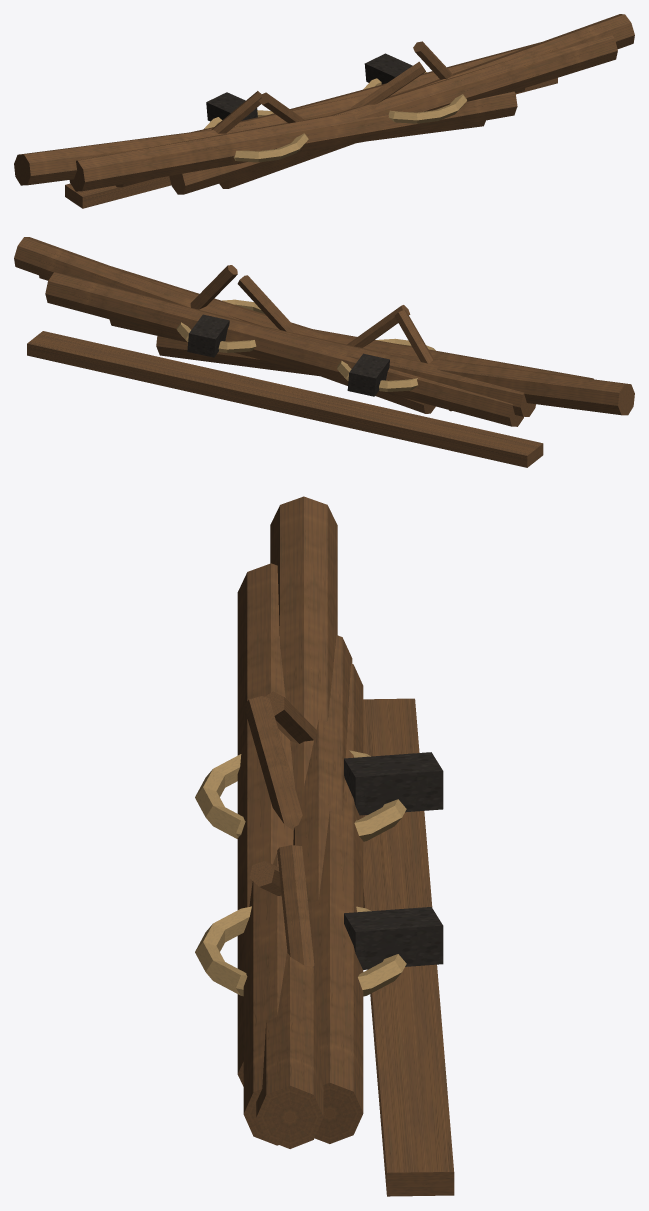
The model's file is pr-003_wood_poles_bundle__placed.obj.
3 views of the same model, one above another, from view 1: azimuth 30°, elevation 25°; view 2: azimuth 150°, elevation 25°; view 3: azimuth 270°, elevation 25° (orthographic). The views are drawn at different scales.
Visible parts, largest first — view 1: pr-003_wood_poles_bundle__placed; view 2: pr-003_wood_poles_bundle__placed; view 3: pr-003_wood_poles_bundle__placed.
Boxes of the visible parts, x1=… form: pr-003_wood_poles_bundle__placed: x1=14, y1=14, x2=634, y2=208; pr-003_wood_poles_bundle__placed: x1=14, y1=237, x2=634, y2=467; pr-003_wood_poles_bundle__placed: x1=195, y1=496, x2=454, y2=1196.
Bounding box in the file's own units: 1.87 × 0.2994 × 0.3471.
3 materials, 3 textured.
